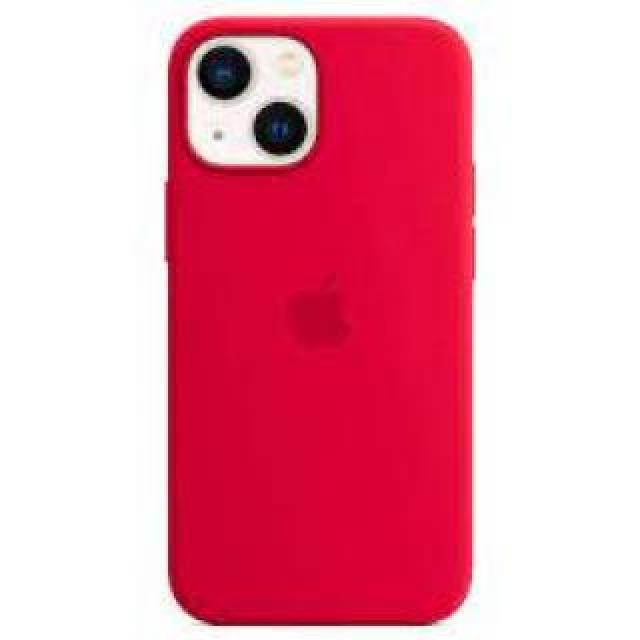smart phone: (122, 2, 528, 624)
